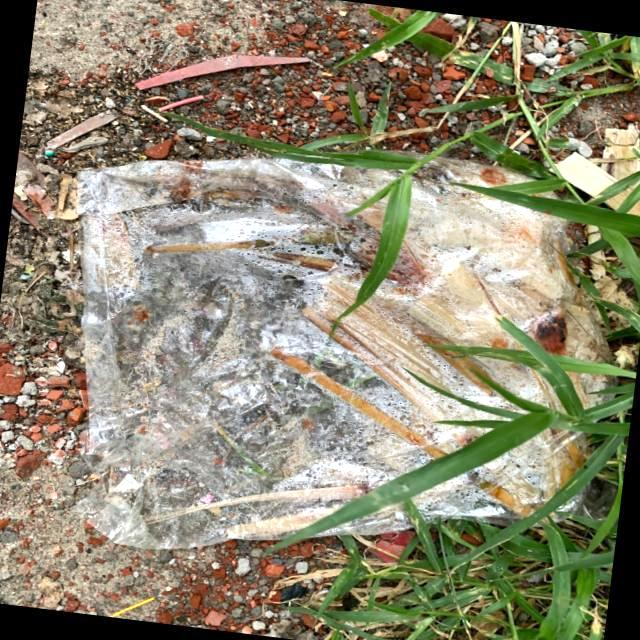polythene: (112, 165, 570, 527)
